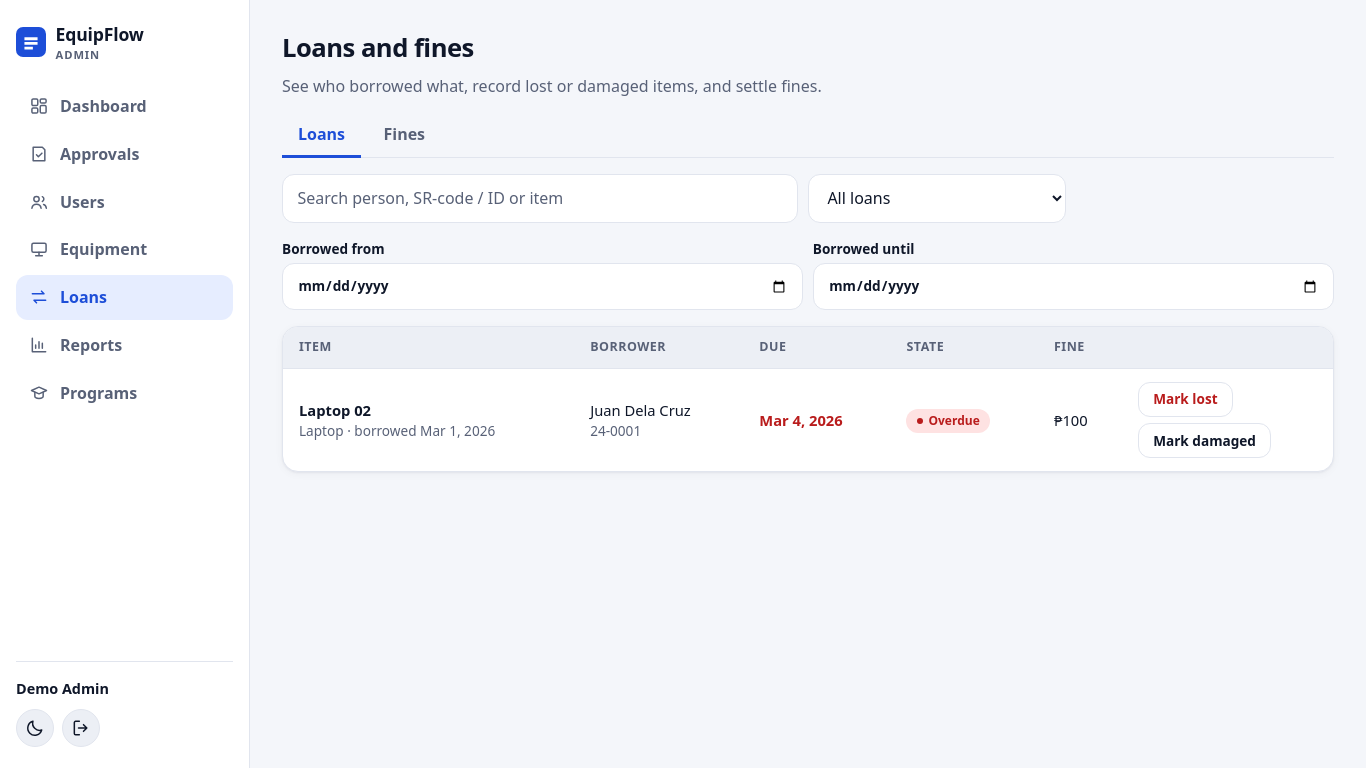
Test: Loans › marks an item lost, using the replacement cost when no amount is typed
Click the button "Mark lost".
click(1185, 399)  # box [1138,382,1233,417]
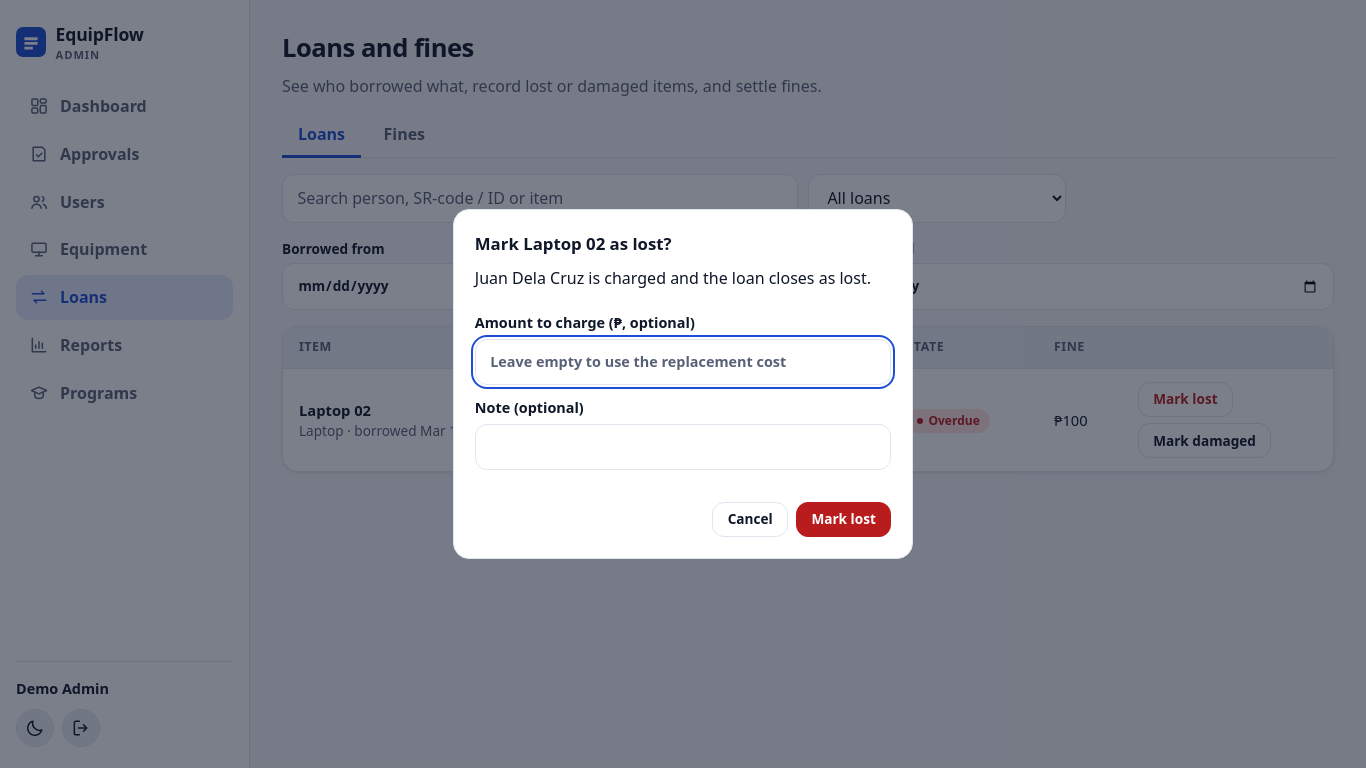
Click the button "Mark lost".
click(844, 519)  # box [796,502,891,537]
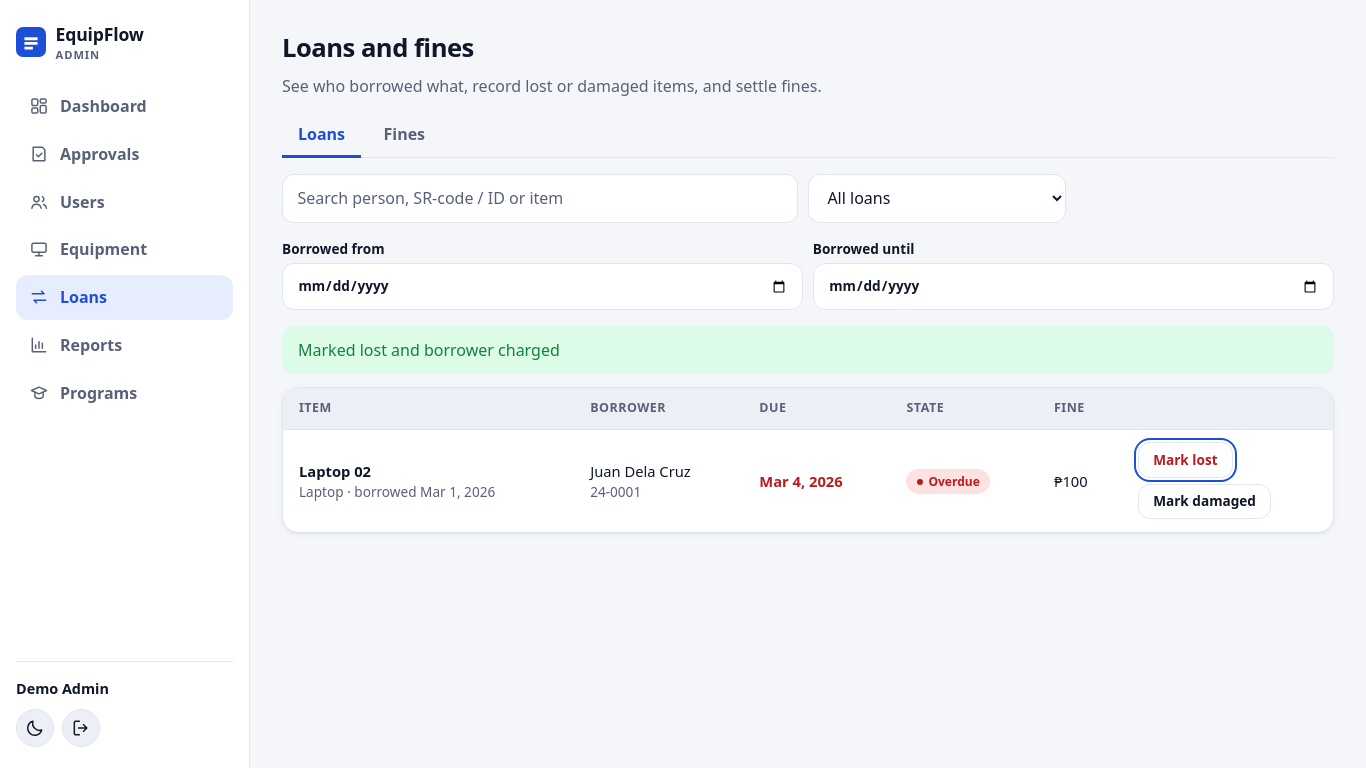
Expected: the message reads "Marked lost and borrower charged", [298,339,560,361]
